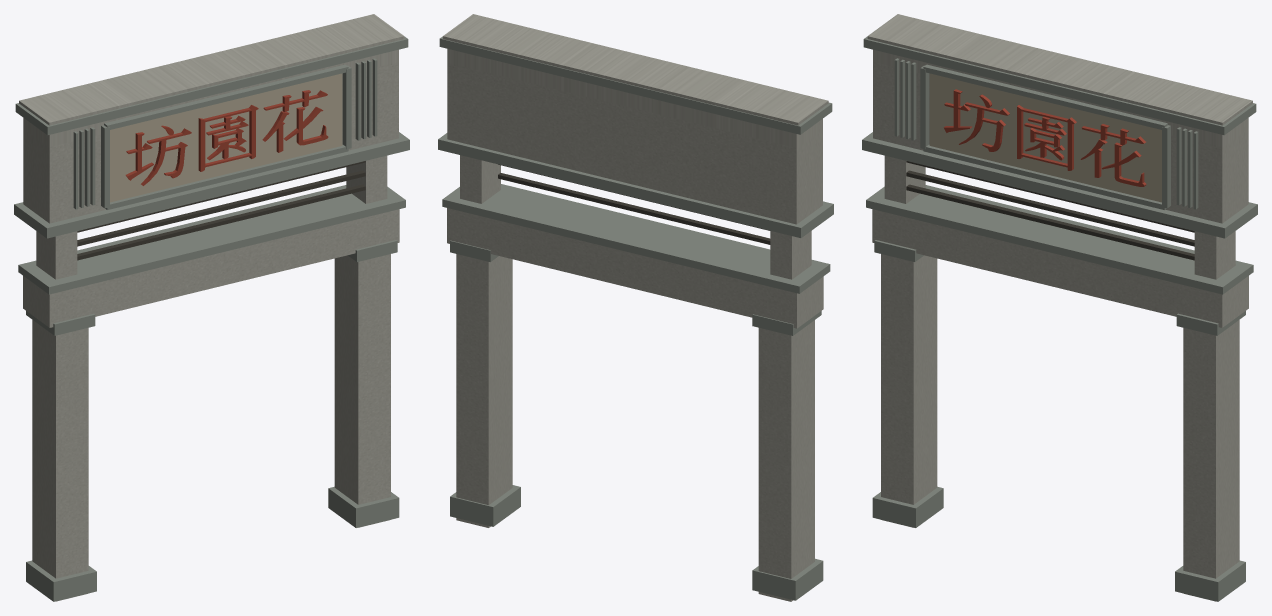
File: huangpu-huayuanfang-lintel-and-triple-plaque-lod.glb
The picture shows the model from 3 angles, left to right: view 1: azimuth 30°, elevation 25°; view 2: azimuth 150°, elevation 25°; view 3: azimuth 330°, elevation 25°; orthographic projection.
Visible parts, largest first — view 1: 花园坊瑞金二路三字额与叠梁弄门; view 2: 花园坊瑞金二路三字额与叠梁弄门; view 3: 花园坊瑞金二路三字额与叠梁弄门.
Boxes of the visible parts, x1,y1,x2,y2 form: 花园坊瑞金二路三字额与叠梁弄门: [14, 14, 409, 601]; 花园坊瑞金二路三字额与叠梁弄门: [438, 14, 833, 601]; 花园坊瑞金二路三字额与叠梁弄门: [862, 14, 1257, 601].
Bounding box in the file's own units: 3.65 × 4.65 × 0.571.
Materials: 5 (1 with a texture image).
